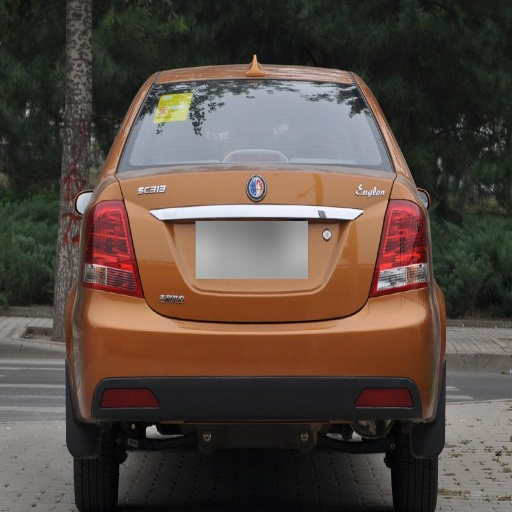back_bumper: (69, 283, 435, 446)
tailgate: (98, 158, 396, 321)
trunk: (213, 173, 297, 212)
